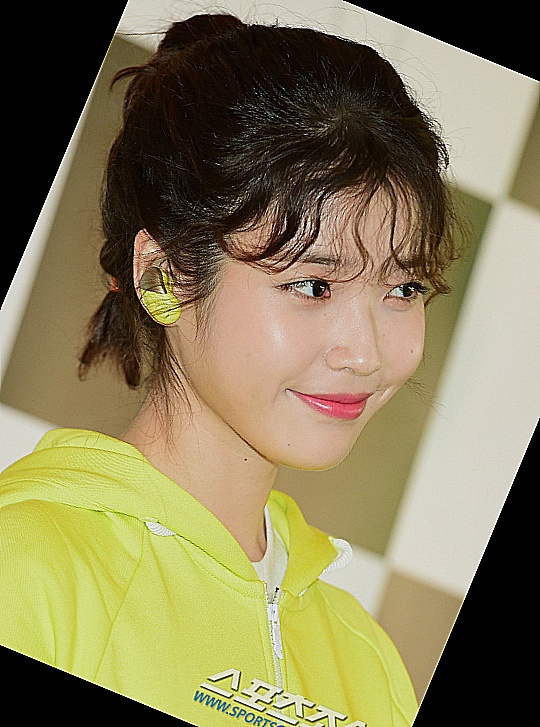earphone: (108, 225, 210, 332)
